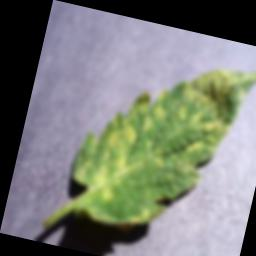Leaf_Mold: (63, 32, 256, 252)
